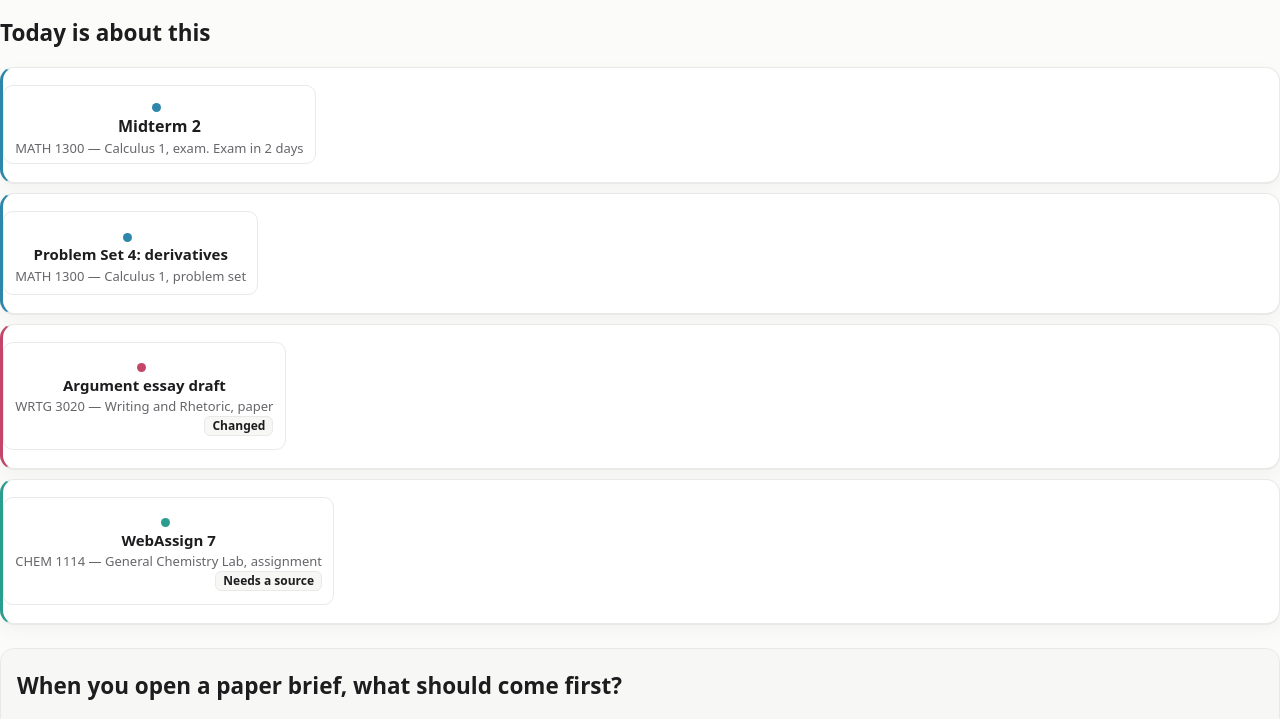
Scenario: a brief › records one-tap feedback locally
Click the button "Problem Set 4" at {"x": 131, "y": 253}, box [3,211,258,295]
(page scrolled)
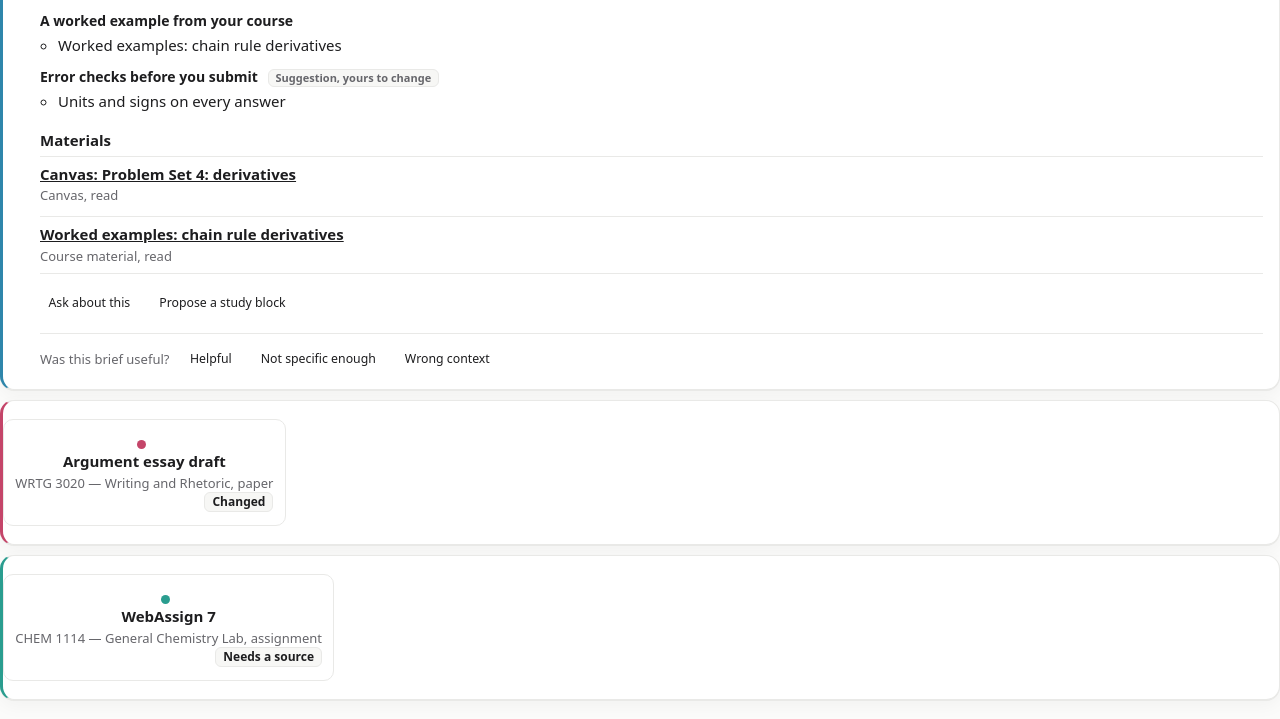
Click the button "Not specific enough" at {"x": 318, "y": 360}, box [252,346,384,373]
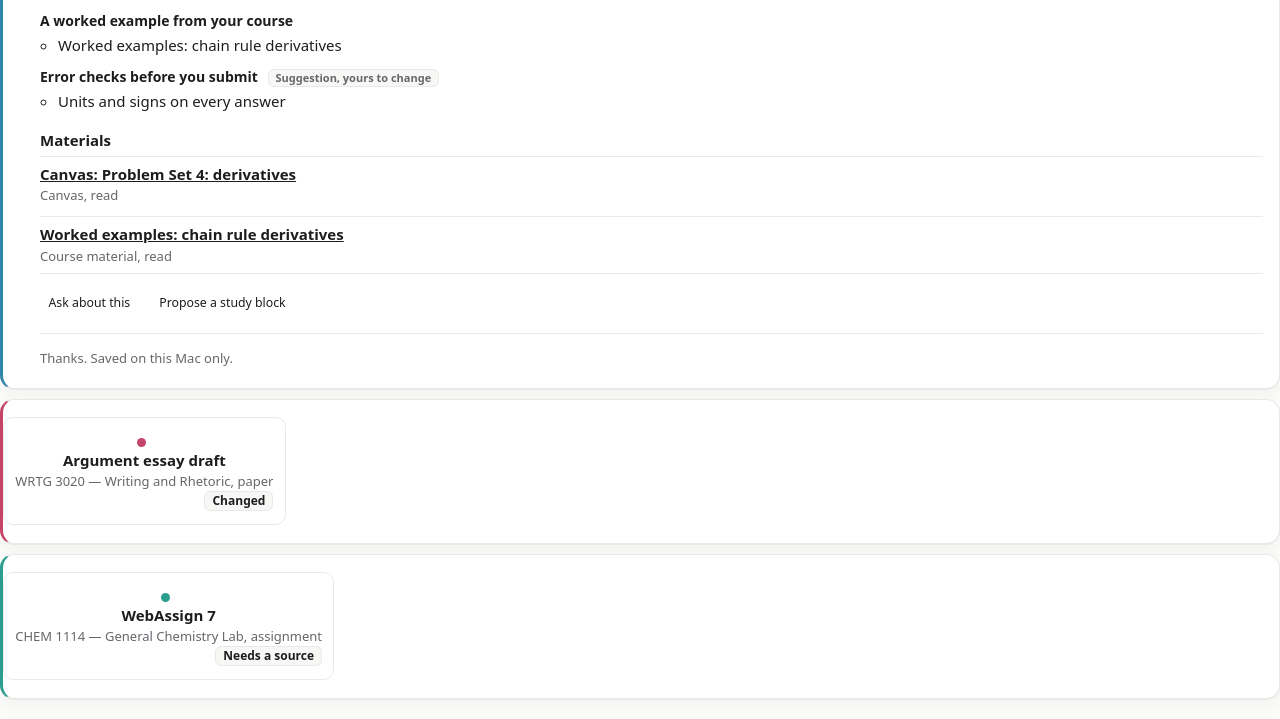
Now the text "Thanks. Saved on this Mac only." is shown, box [40,350,233,368]
